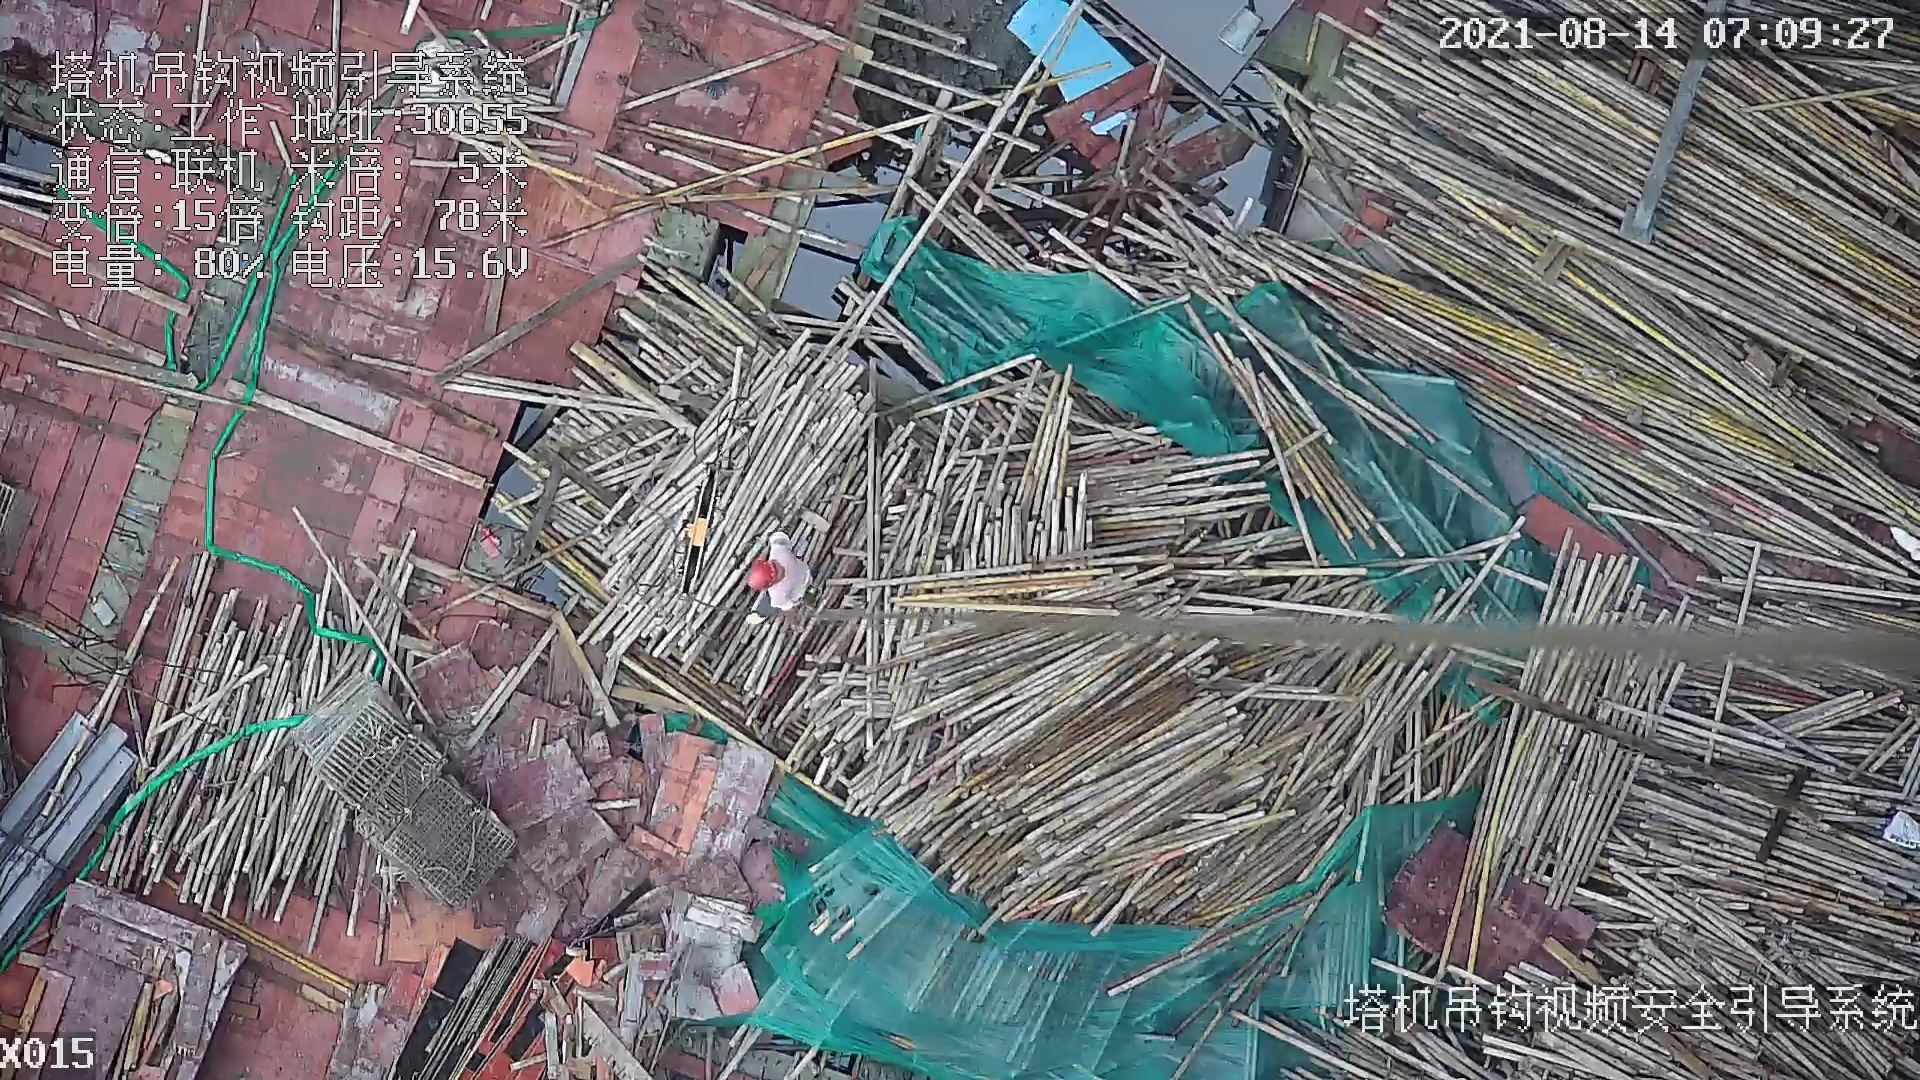helmet: (748, 557, 779, 590)
hook: (668, 454, 719, 594)
person: (742, 540, 813, 617)
